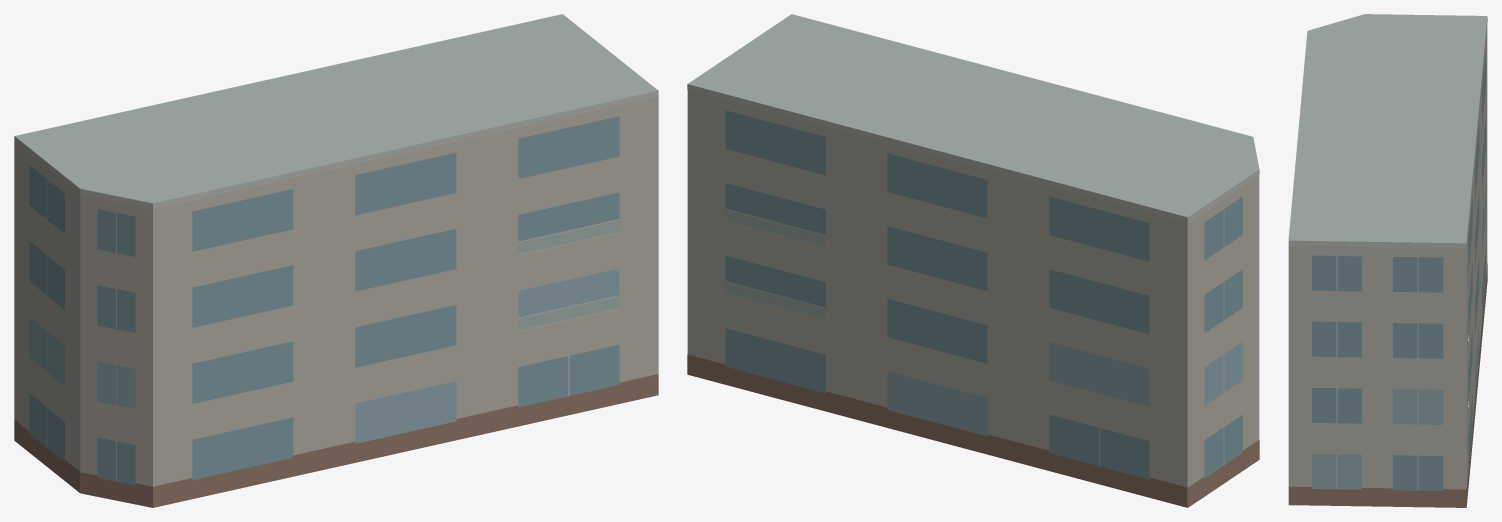
The model's file is survey-upis-32564778.glb.
3 views of the same model, side by side, from view 1: azimuth 30°, elevation 25°; view 2: azimuth 150°, elevation 25°; view 3: azimuth 270°, elevation 25° (orthographic). The views are drawn at different scales.
Parts seen in each view (by area): view 1: survey-upis-32564778.tmp; view 2: survey-upis-32564778.tmp; view 3: survey-upis-32564778.tmp.
Boxes of the visible parts, box(x1,y1,x2,y2) form: survey-upis-32564778.tmp: box(14, 14, 658, 507); survey-upis-32564778.tmp: box(687, 14, 1259, 507); survey-upis-32564778.tmp: box(1288, 14, 1487, 507).
Bounding box in the file's own units: 23.99 × 12.9 × 8.8.
